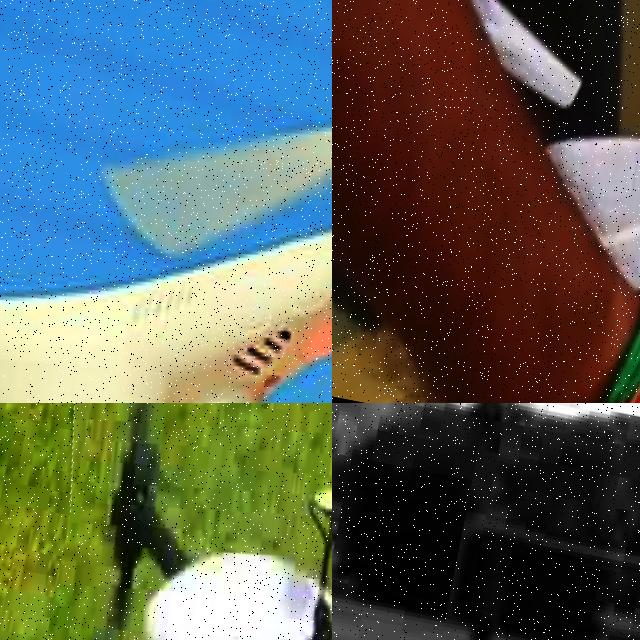0: (0, 403, 332, 640)
drone: (0, 0, 332, 403), (332, 0, 640, 403)
